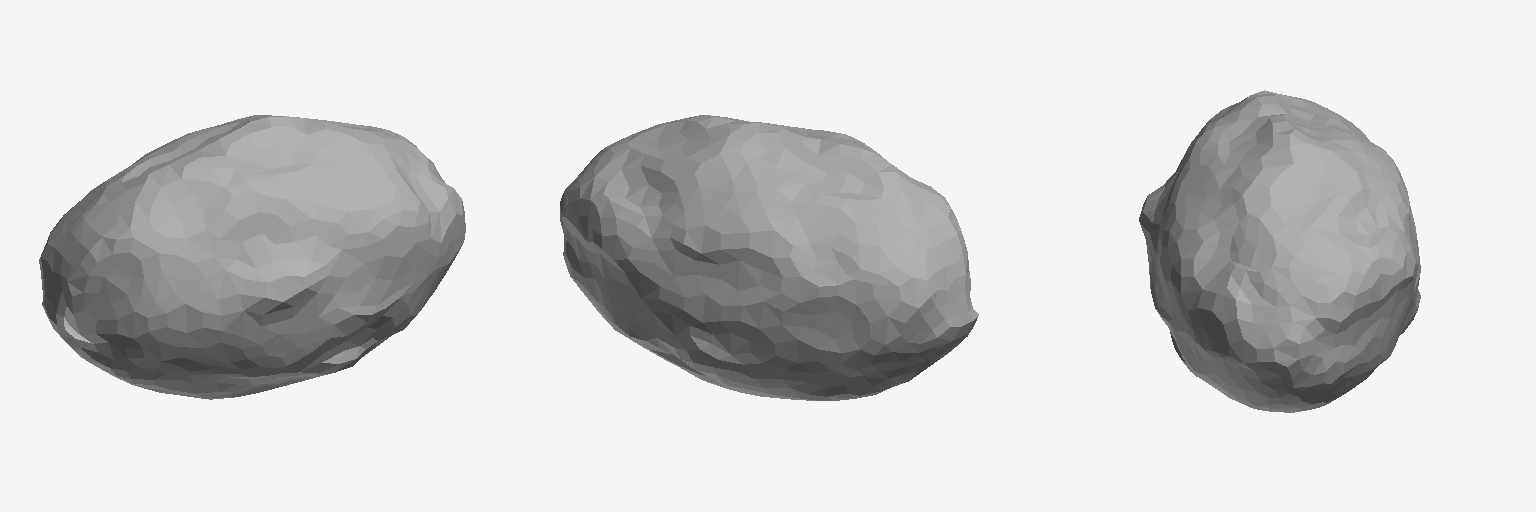
The model's file is GenericAsteroid.obj.
3 renders of one model, left to right at view 1: azimuth 30°, elevation 25°; view 2: azimuth 150°, elevation 25°; view 3: azimuth 270°, elevation 25°, orthographic.
Parts seen in each view (by area): view 1: F4:GeoDome2_default; view 2: F4:GeoDome2_default; view 3: F4:GeoDome2_default.
Part boxes in pixels (x1,y1,x2,y2): F4:GeoDome2_default: (39, 115, 465, 399); F4:GeoDome2_default: (560, 115, 978, 400); F4:GeoDome2_default: (1139, 90, 1420, 412).
Size of the model in its own units: 3.43 by 2.11 by 2.06.